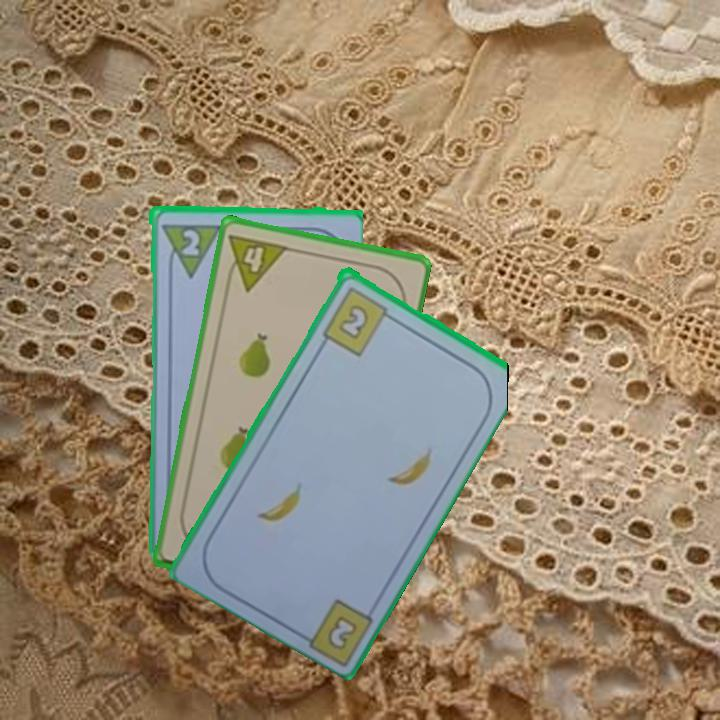2b: (319, 282, 397, 358), (326, 615, 357, 650)
2p: (157, 220, 221, 279)
4p: (221, 230, 290, 294)
